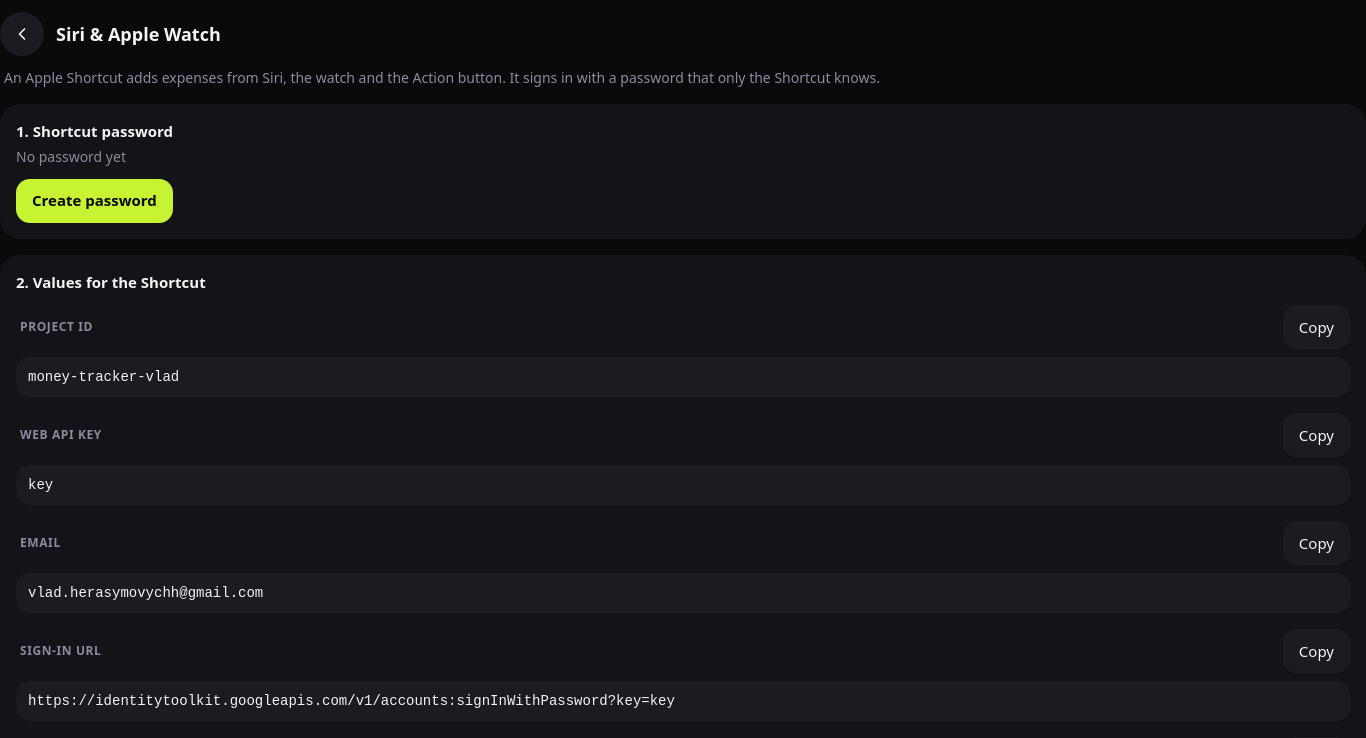
Test case: ShortcutPage › 1. Shortcut password › creates a password, shows it once with its hint, and offers Reset from then on
The image size is (1366, 738).
Check: the text "No password yet" is shown, box [16,146,126,166]
Check: the button "Reset password" is not shown
Click the button "Create password": (94,200) [16,178,173,222]
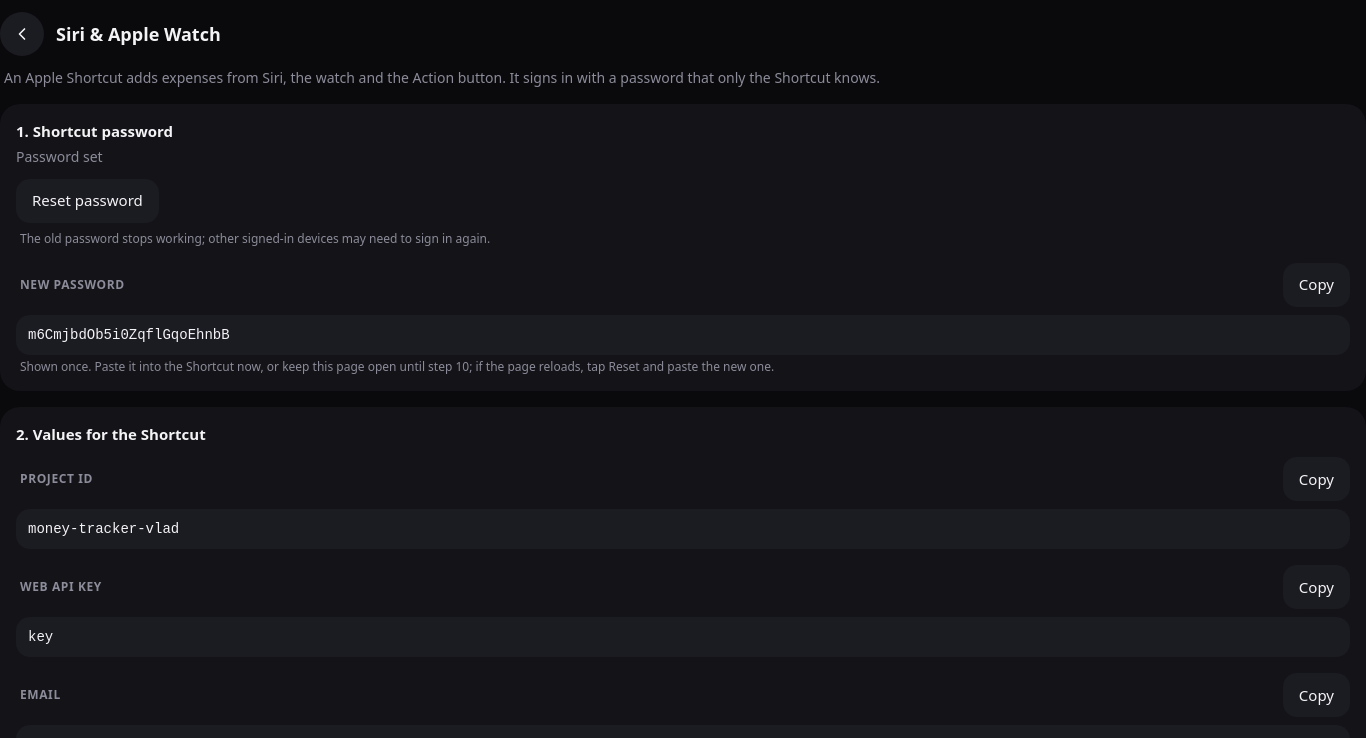
Check: the text "Shown once. Paste it into the Shortcut now, or keep this page open until step 10; if the page reloads, tap Reset and pas" is shown, box [20,358,774,374]
Check: the text "Password set" is shown, box [16,146,103,166]
Check: the button "Create password" is gone
